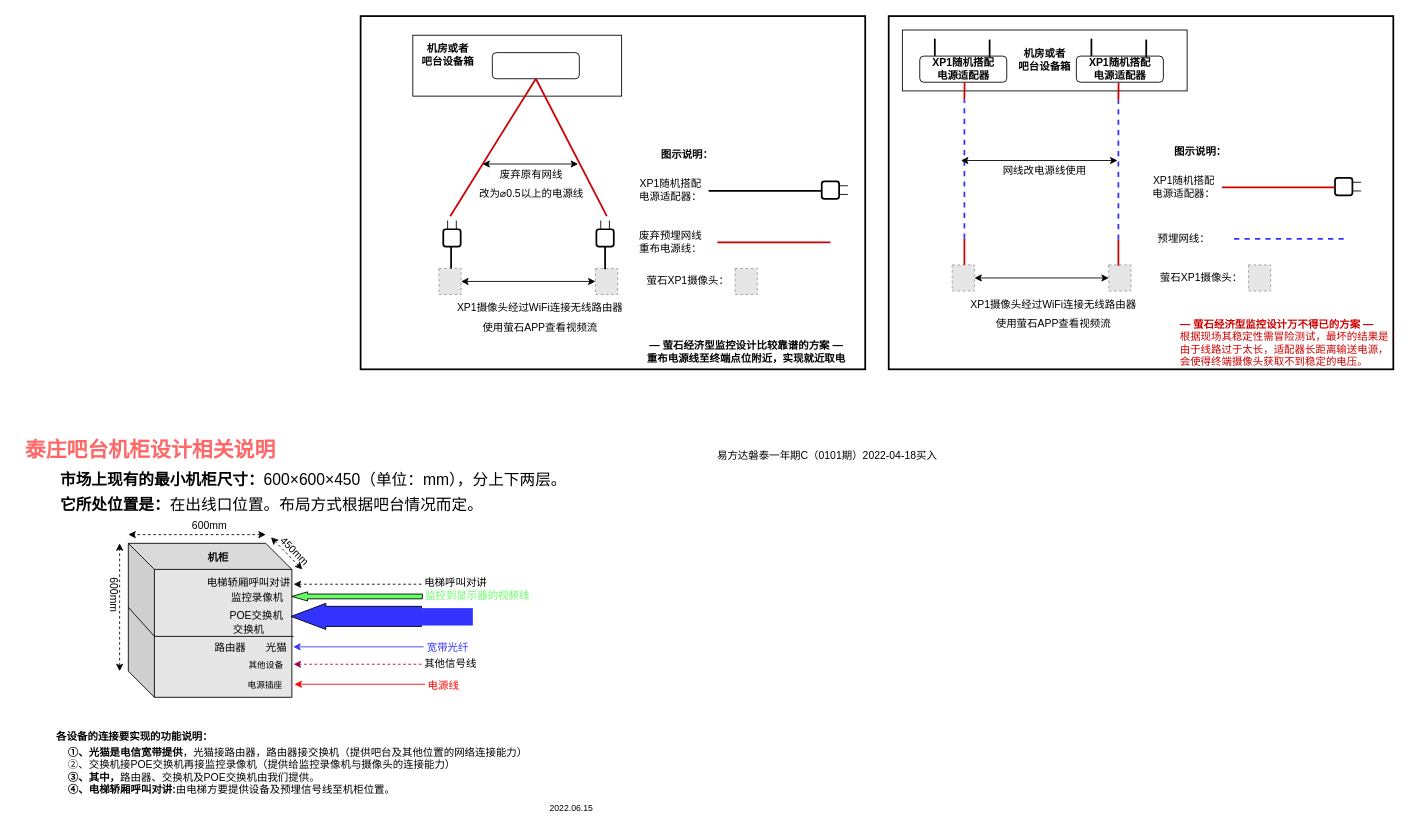
Some shapes in this 1419 by 833 pixel diagram are drawn without their labels. Grey dashed boxes stand in for pictures. Here are the shapes that lost their labels. From the top down, the centre of each, then its label:
the point at 535,65: 220V市电
the point at 446,616: 监控网线
